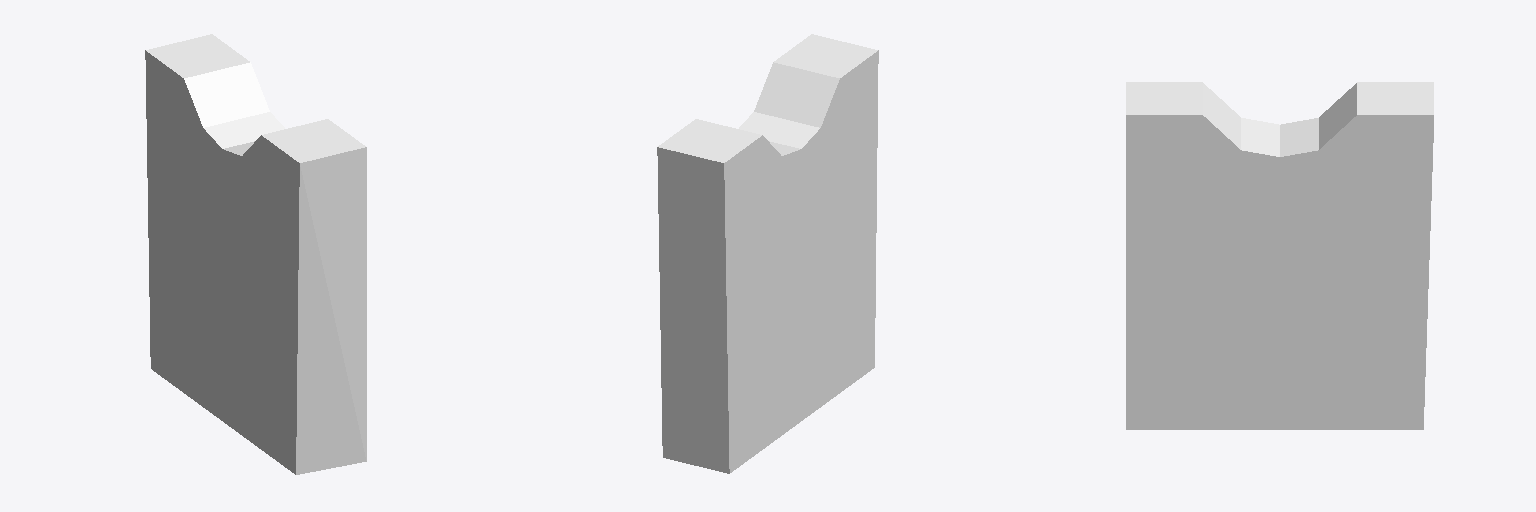
File: lapida-draven.obj
3 renders of one model, left to right at view 1: azimuth 30°, elevation 25°; view 2: azimuth 150°, elevation 25°; view 3: azimuth 270°, elevation 25°, orthographic.
Visible parts, largest first — view 1: Cube1; view 2: Cube1; view 3: Cube1.
Part boxes in pixels (bbox=[...]): Cube1: bbox=[145, 34, 366, 474]; Cube1: bbox=[657, 34, 878, 473]; Cube1: bbox=[1126, 82, 1433, 429].
Size of the model in its own units: 0.5 by 2.25 by 2.